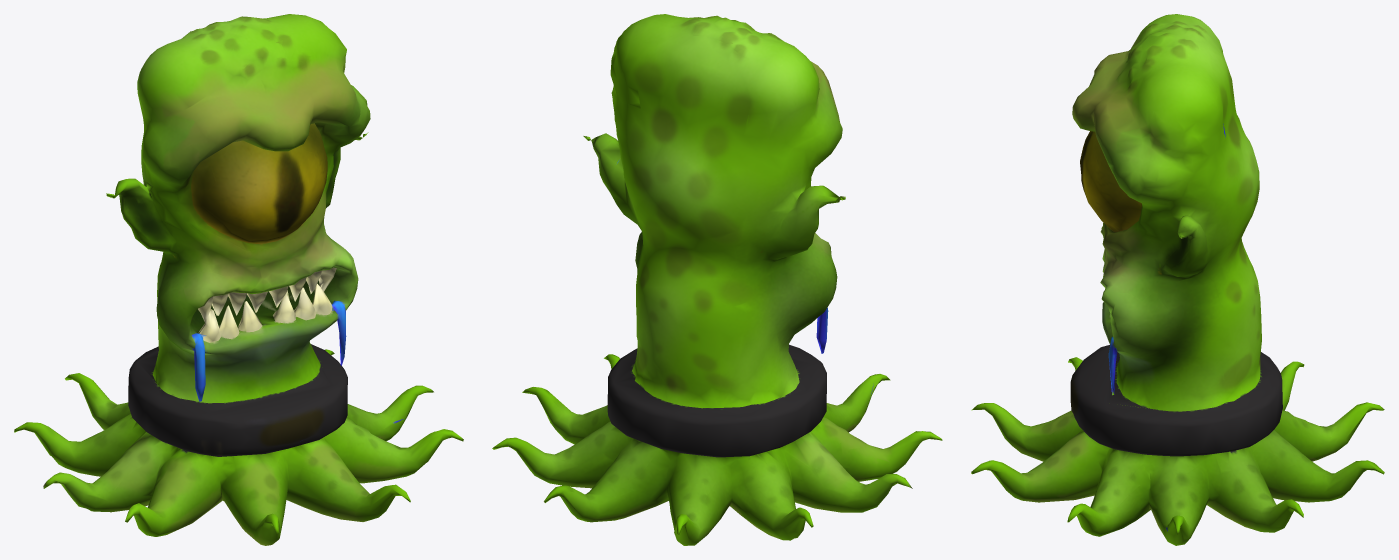
File: kang_-_the_simpsons_fan_art.glb
The picture shows the model from 3 angles, left to right: view 1: azimuth 30°, elevation 25°; view 2: azimuth 150°, elevation 25°; view 3: azimuth 270°, elevation 25°; orthographic projection. The views are drawn at different scales.
Visible parts, largest first — view 1: new_1_3; view 2: new_1_3; view 3: new_1_3.
Part boxes in pixels (x1,y1,x2,y2): new_1_3: (14, 14, 463, 545); new_1_3: (492, 14, 942, 545); new_1_3: (971, 14, 1384, 545).
Size of what is drawn, in the model's own units: 3.19 by 3.61 by 3.
Materials: 1 (1 with a texture image).
